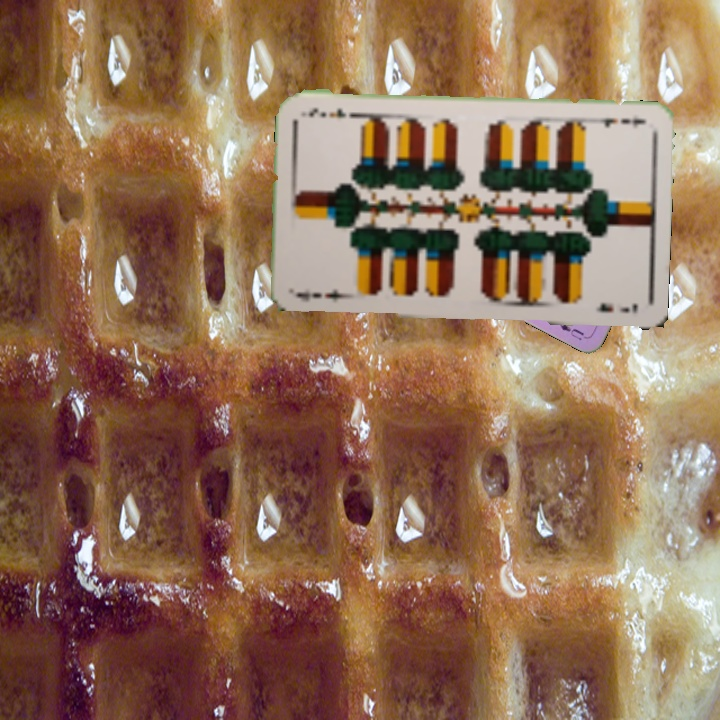E7: (293, 286, 352, 304), (590, 114, 648, 129)
